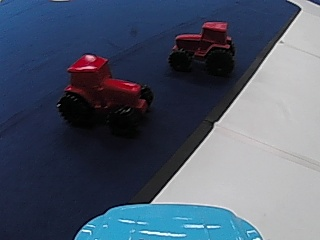tractor: (55, 50, 154, 132), (169, 18, 238, 76)
